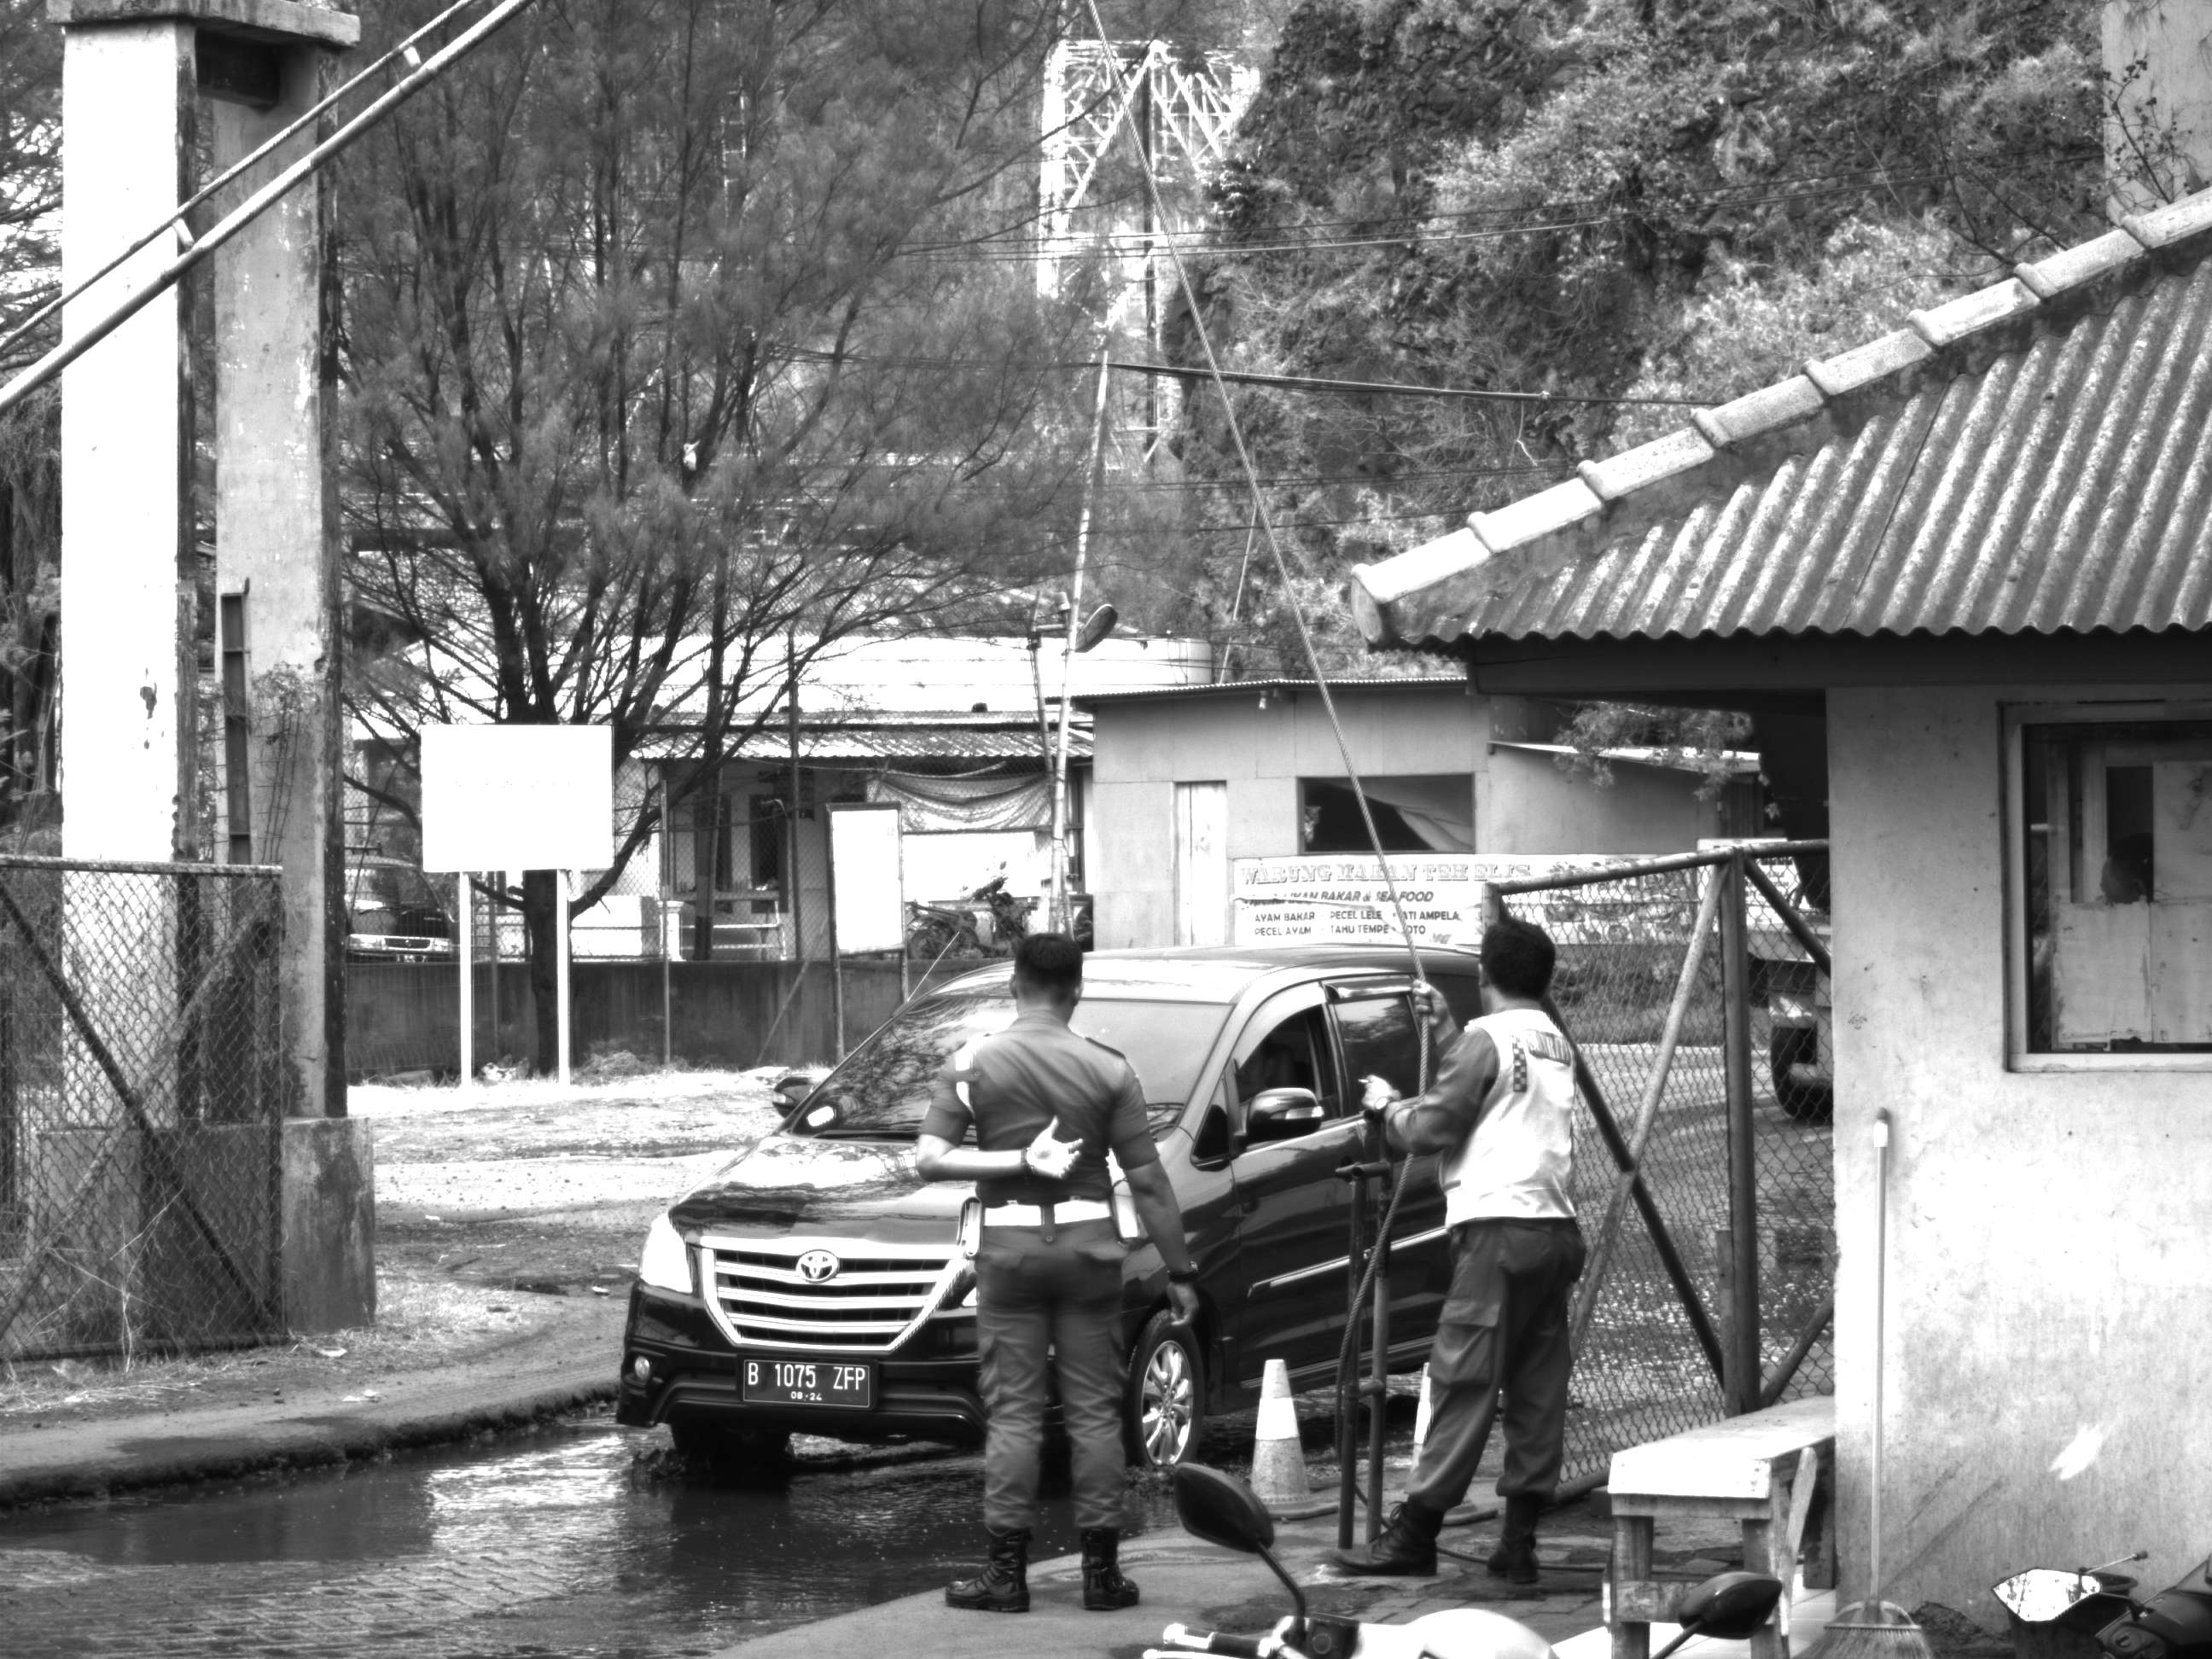day_small_front: (612, 944, 1222, 1502)
plate: (735, 1351, 877, 1417)
